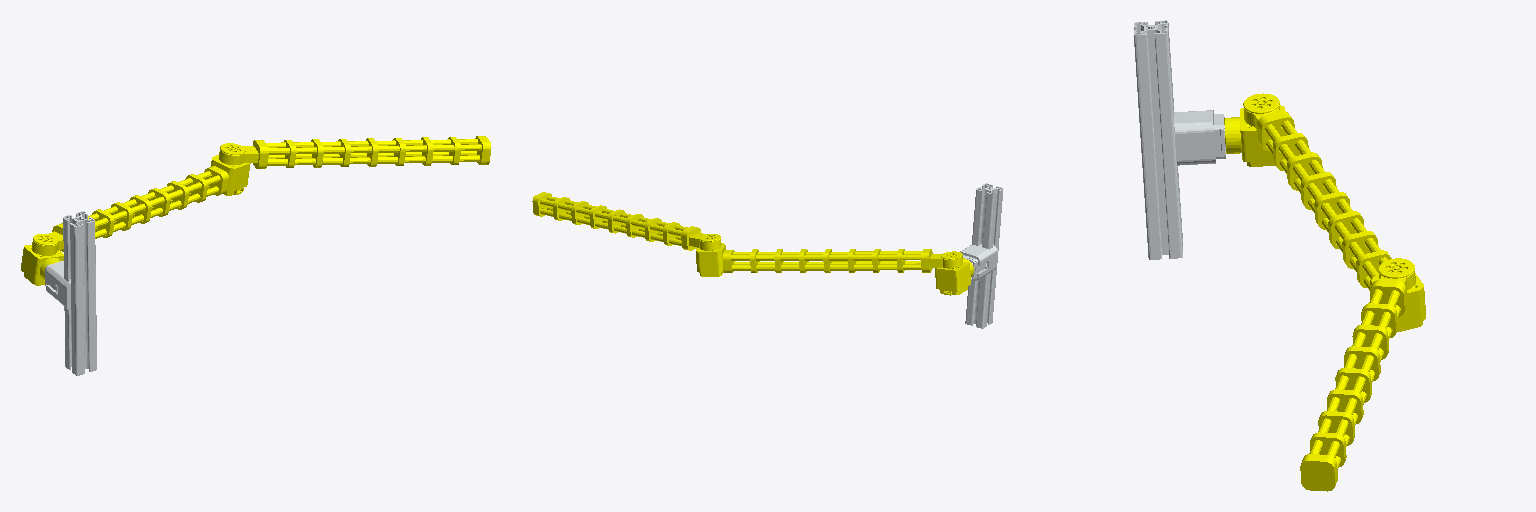
robot.urdf — Pierna_entera_2:
<?xml version="1.0" encoding="utf-8"?>
<!-- This URDF was automatically created by SolidWorks to URDF Exporter! Originally created by [author] ([email redacted]) 
     Commit Version: 1.6.0-4-g7f85cfe  Build Version: 1.6.7995.38578
     For more information, please see http://wiki.ros.org/sw_urdf_exporter -->
<robot
  name="Pierna_entera_2">
  <link
    name="base_link">
    <inertial>
      <origin
        xyz="-0.00250245032232071 0.251517073292659 0.175881539388643"
        rpy="0 0 0" />
      <mass
        value="0.313191197329196" />
      <inertia
        ixx="0.00113074597450617"
        ixy="5.06648436970605E-05"
        ixz="1.01441767230027E-05"
        iyy="0.000112285853478866"
        iyz="-6.28525512292321E-05"
        izz="0.00113161900695232" />
    </inertial>
    <visual>
      <origin
        xyz="0 0 0"
        rpy="0 0 0" />
      <geometry>
        <mesh
          filename="package://lesson_urdf/meshes/base_link.STL"/>
      </geometry>
      <material
        name="">
        <color
          rgba="0.898039215686275 0.92156862745098 0.929411764705882 1" />
      </material>
    </visual>
    <collision>
      <origin
        xyz="0 0 0"
        rpy="0 0 0" />
      <geometry>
        <mesh
          filename="package://lesson_urdf/meshes/base_link.STL" />
      </geometry>
    </collision>
  </link>
  <link
    name="link_p">
    <inertial>
      <origin
        xyz="0.00033555 -0.0029601 0.020892"
        rpy="0 0 0" />
      <mass
        value="0.13838" />
      <inertia
        ixx="5.0666E-05"
        ixy="-1.549E-06"
        ixz="1.1666E-07"
        iyy="6.4116E-05"
        iyz="-1.0334E-06"
        izz="4.273E-05" />
    </inertial>
    <visual>
      <origin
        xyz="0 0 0"
        rpy="0 0 0" />
      <geometry>
        <mesh
          filename="package://lesson_urdf/meshes/link_p.STL" />
      </geometry>
      <material
        name="">
        <color
          rgba="1 1 0 1" />
      </material>
    </visual>
    <collision>
      <origin
        xyz="0 0 0"
        rpy="0 0 0" />
      <geometry>
        <mesh
          filename="package://lesson_urdf/meshes/link_p.STL" />
      </geometry>
    </collision>
  </link>
  <joint
    name="joint_p"
    type="continuous">
    <origin
      xyz="-0.0024512 -0.097818 0.25643"
      rpy="1.5091 0 -3.1416" />
    <parent
      link="base_link" />
    <child
      link="link_p" />
    <axis
      xyz="0 0 1" />
  </joint>
  <link
    name="link_c">
    <inertial>
      <origin
        xyz="0.29751 0.1045 -0.010047"
        rpy="0 0 0" />
      <mass
        value="0.30893" />
      <inertia
        ixx="0.00014292"
        ixy="-0.00020178"
        ixz="-4.7007E-06"
        iyy="0.00064636"
        iyz="-1.6663E-06"
        izz="0.00073083" />
    </inertial>
    <visual>
      <origin
        xyz="0 0 0"
        rpy="0 0 0" />
      <geometry>
        <mesh
          filename="package://lesson_urdf/meshes/link_c.STL" />
      </geometry>
      <material
        name="">
        <color
          rgba="1 1 0 1" />
      </material>
    </visual>
    <collision>
      <origin
        xyz="0 0 0"
        rpy="0 0 0" />
      <geometry>
        <mesh
          filename="package://lesson_urdf/meshes/link_c.STL" />
      </geometry>
    </collision>
  </link>
  <joint
    name="joint_c"
    type="continuous">
    <origin
      xyz="-0.0047758 0.041904 0.02325"
      rpy="1.5708 0 -3.0281" />
    <parent
      link="link_p" />
    <child
      link="link_c" />
    <axis
      xyz="0 0 -1" />
  </joint>
  <link
    name="link_r">
    <inertial>
      <origin
        xyz="0.20735 -0.045612 -0.011448"
        rpy="0 0 0" />
      <mass
        value="0.1843" />
      <inertia
        ixx="6.2303E-05"
        ixy="0.00013228"
        ixz="-1.5195E-10"
        iyy="0.00063454"
        iyz="-2.117E-10"
        izz="0.00066576" />
    </inertial>
    <visual>
      <origin
        xyz="0 0 0"
        rpy="0 0 0" />
      <geometry>
        <mesh
          filename="package://lesson_urdf/meshes/link_r.STL" />
      </geometry>
      <material
        name="">
        <color
          rgba="1 1 0 1" />
      </material>
    </visual>
    <collision>
      <origin
        xyz="0 0 0"
        rpy="0 0 0" />
      <geometry>
        <mesh
          filename="package://lesson_urdf/meshes/link_r.STL" />
      </geometry>
    </collision>
  </link>
  <joint
    name="joint_r"
    type="continuous">
    <origin
      xyz="0.44154 0.15513 0.037775"
      rpy="0 0 0" />
    <parent
      link="link_c" />
    <child
      link="link_r" />
    <axis
      xyz="0 0 -1" />
  </joint>
</robot>

--- Facts derived from the render (not from the file) ---
3 views of the same robot in one strip: view 1: azimuth 30°, elevation 25°; view 2: azimuth 150°, elevation 25°; view 3: azimuth 270°, elevation 25° (orthographic).
Model Pierna_entera_2 with 4 links and 3 joints (3 continuous), rooted at base_link, posed all joints at 0.
Links seen in each view (by area): view 1: link_r, base_link, link_c, link_p; view 2: link_c, link_r, base_link, link_p; view 3: base_link, link_r, link_c, link_p.
Link boxes in pixels (x1=…): link_r: x1=219, y1=136, x2=491, y2=168; base_link: x1=45, y1=211, x2=96, y2=375; link_c: x1=32, y1=155, x2=250, y2=255; link_p: x1=21, y1=245, x2=63, y2=285; link_c: x1=696, y1=243, x2=962, y2=276; link_r: x1=532, y1=192, x2=720, y2=250; base_link: x1=960, y1=183, x2=1003, y2=328; link_p: x1=935, y1=258, x2=973, y2=295; base_link: x1=1134, y1=20, x2=1225, y2=259; link_r: x1=1300, y1=258, x2=1415, y2=491; link_c: x1=1243, y1=93, x2=1425, y2=332; link_p: x1=1224, y1=105, x2=1284, y2=166.
Size in the robot's own frame: 0.9083 by 0.3372 by 0.2834 metres.
Meshes: 4 distinct files referenced, 4 mesh visuals loaded (4 binary STL).